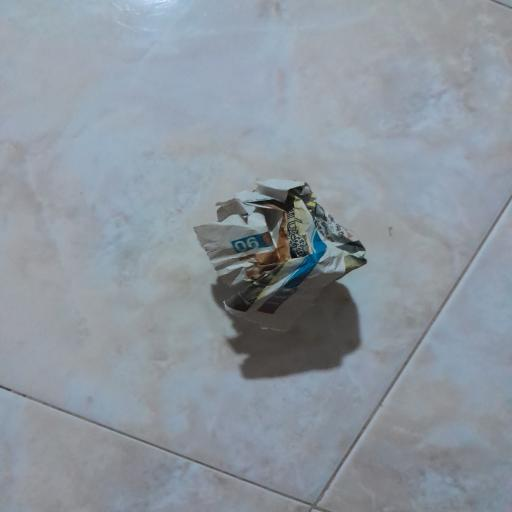waste: (174, 173, 411, 347)
